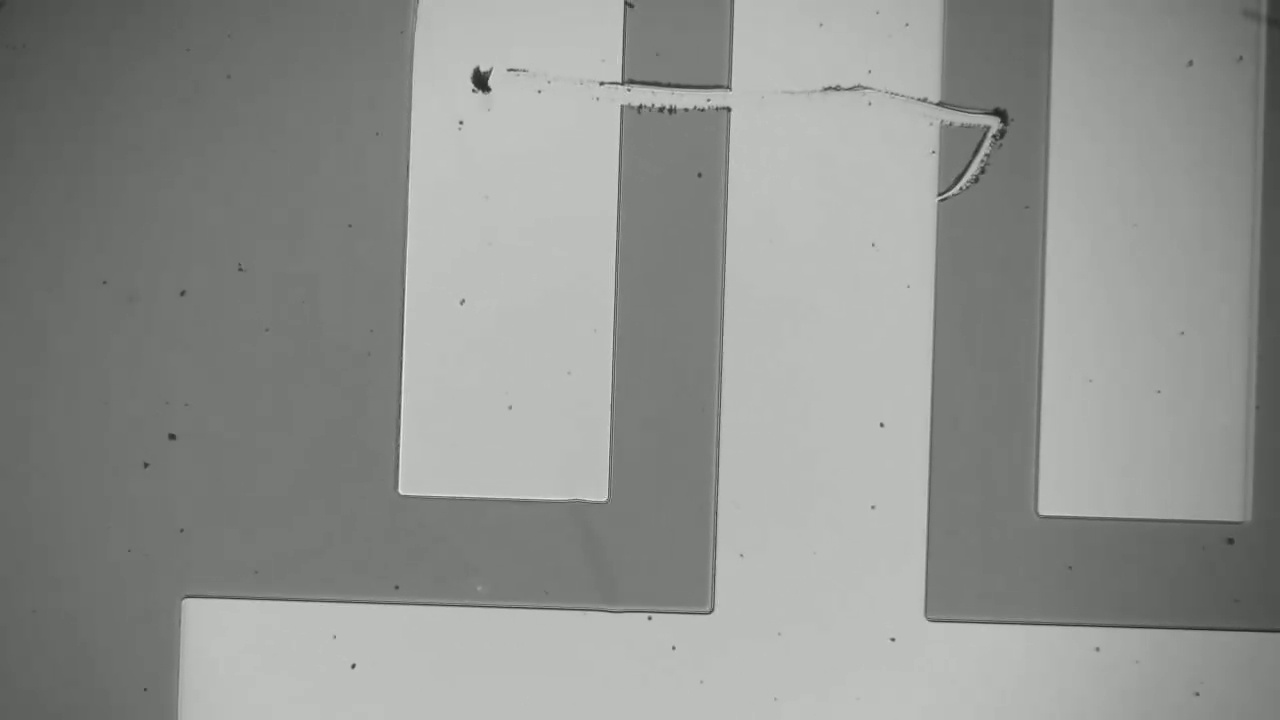Short_circuit: (894, 79, 1076, 149), (573, 64, 750, 134)
